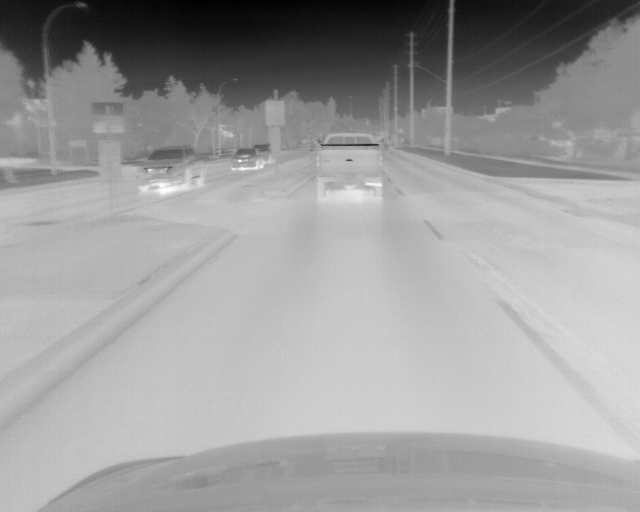car: (314, 131, 383, 201), (136, 145, 204, 194), (230, 149, 263, 171), (254, 143, 271, 165)
